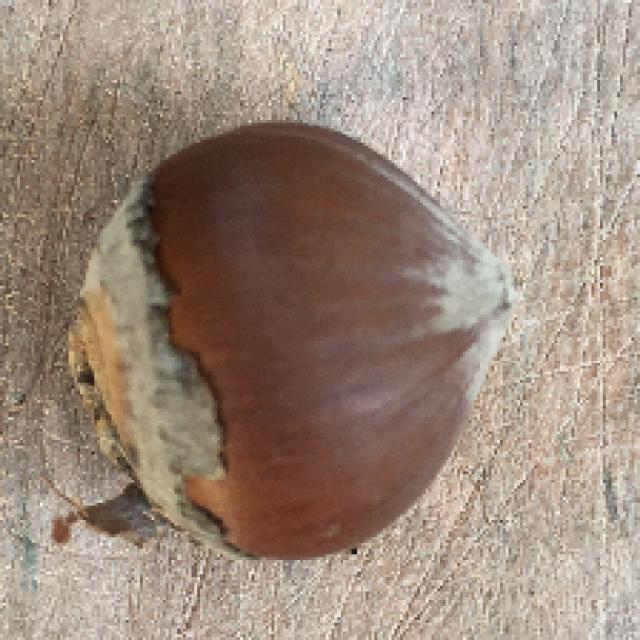damagedHazelnut: (52, 121, 524, 570)
